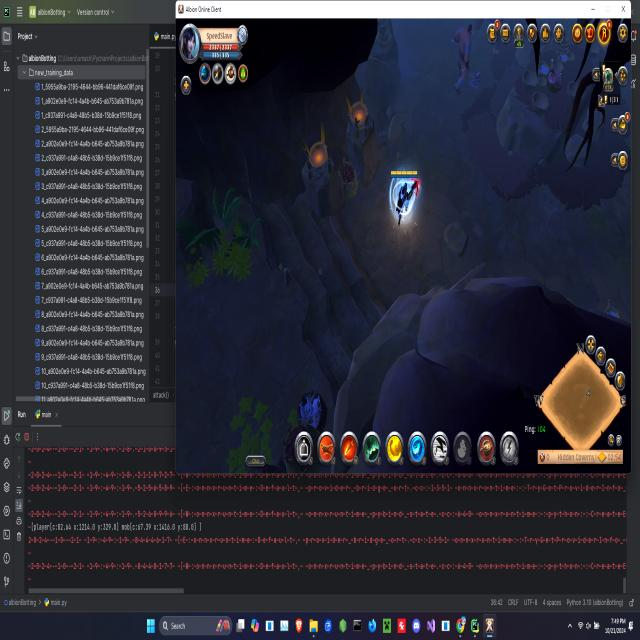ore: (447, 21, 480, 98)
red: (388, 163, 421, 224)
